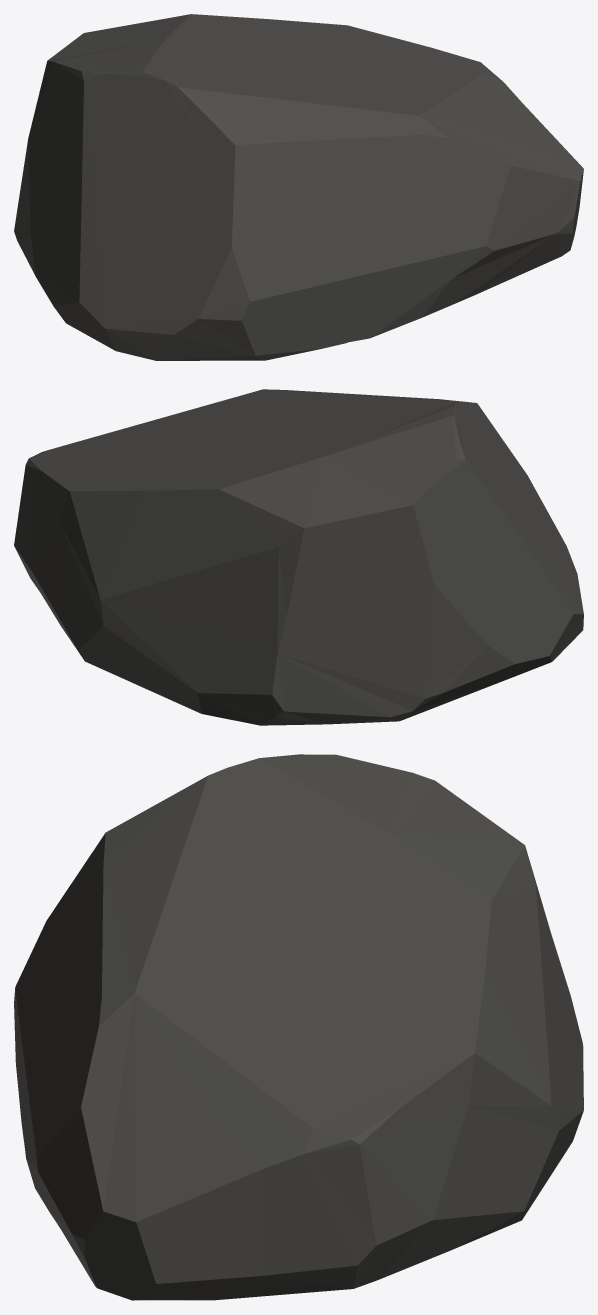
File: isle_rock_b.gltf
3 views of the same model, one above another, from view 1: azimuth 30°, elevation 25°; view 2: azimuth 150°, elevation 25°; view 3: azimuth 270°, elevation 25° (orthographic). The views are drawn at different scales.
Parts seen in each view (by area): view 1: isle_rock_b; view 2: isle_rock_b; view 3: isle_rock_b.
Part boxes in pixels (x1=…): isle_rock_b: x1=14, y1=14, x2=583, y2=360; isle_rock_b: x1=14, y1=389, x2=583, y2=725; isle_rock_b: x1=14, y1=754, x2=583, y2=1300.
Size of the model in its own units: 2.59 by 1.19 by 1.99.
Materials: 1 (1 with a texture image).
